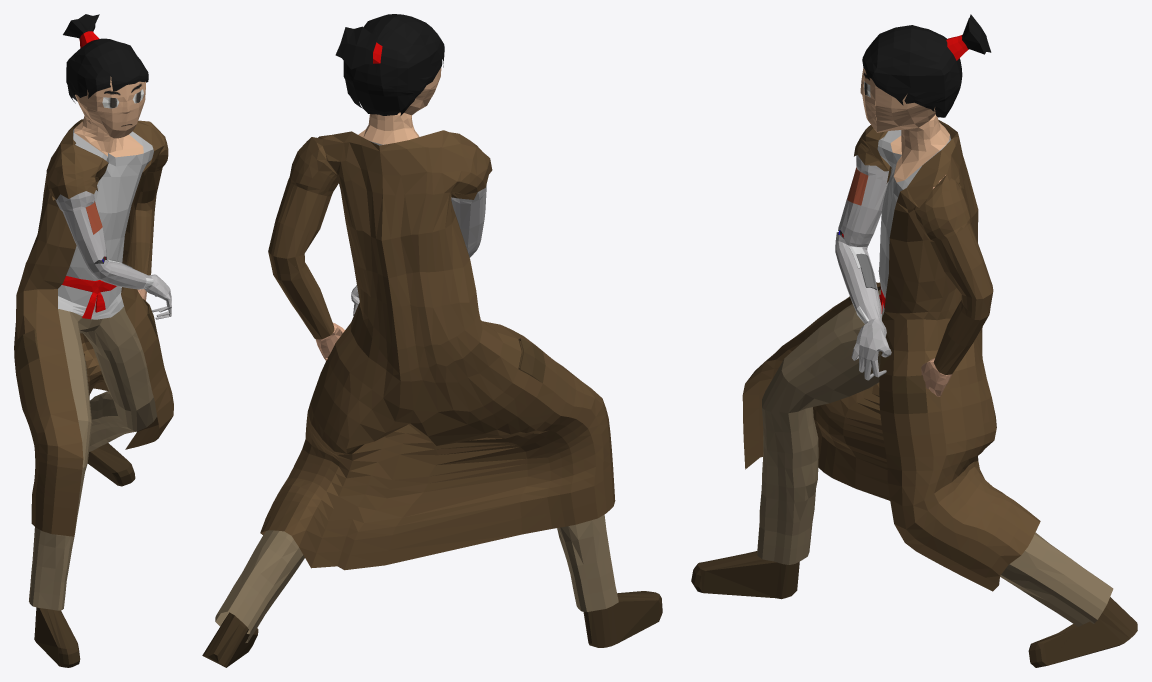
The model's file is One_RR_000013.obj.
3 views of the same model, side by side, from view 1: azimuth 30°, elevation 25°; view 2: azimuth 150°, elevation 25°; view 3: azimuth 270°, elevation 25° (orthographic). The views are drawn at different scales.
Visible parts, largest first — view 1: Hair_Cube.004; view 2: Hair_Cube.004; view 3: Hair_Cube.004.
Part boxes in pixels (<box>): Hair_Cube.004: <box>14,14,173,667</box>; Hair_Cube.004: <box>202,14,662,667</box>; Hair_Cube.004: <box>691,14,1137,667</box>.
Size of the model in its own units: 1.53 by 3.63 by 2.28.
